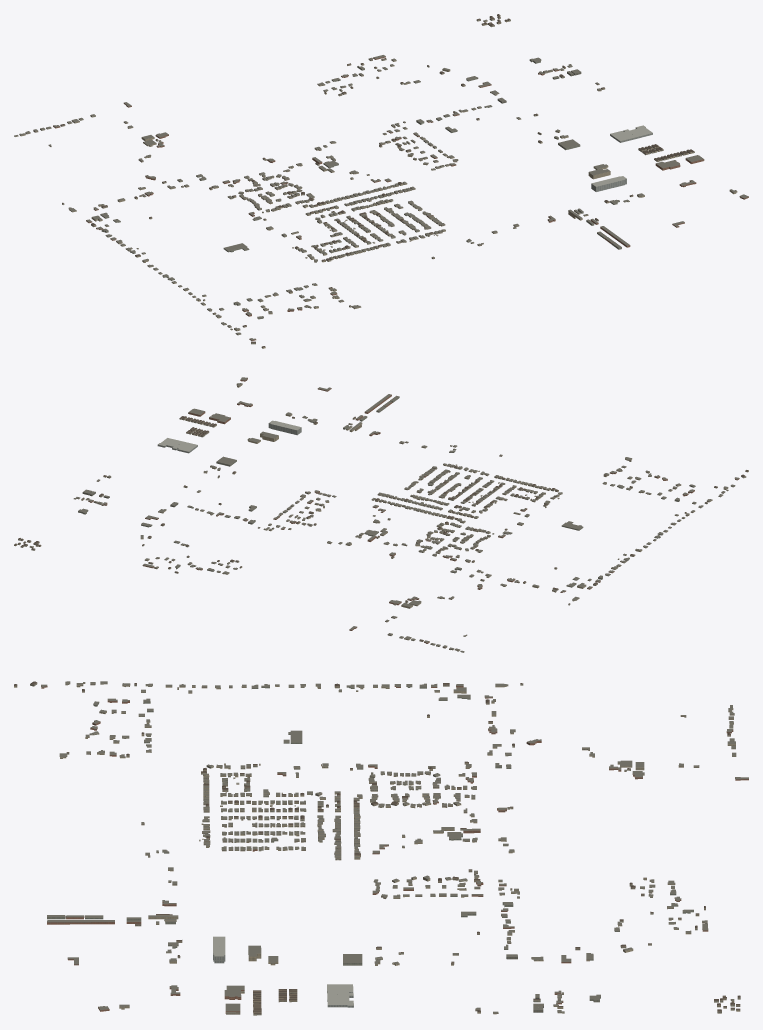
Rendered from Buildings.glb.
The picture shows the model from 3 angles, top to bottom: view 1: azimuth 30°, elevation 25°; view 2: azimuth 150°, elevation 25°; view 3: azimuth 270°, elevation 25°; orthographic projection. The views are drawn at different scales.
Parts seen in each view (by area): view 1: Buildings; view 2: Buildings; view 3: Buildings.
Boxes of the visible parts, x1,y1,x2,y2 form: Buildings: (14, 14, 748, 348); Buildings: (14, 377, 748, 652); Buildings: (14, 681, 748, 1015).
Bounding box in the file's own units: 1993 × 20.65 × 1863.
Materials: 12 (7 with a texture image).
